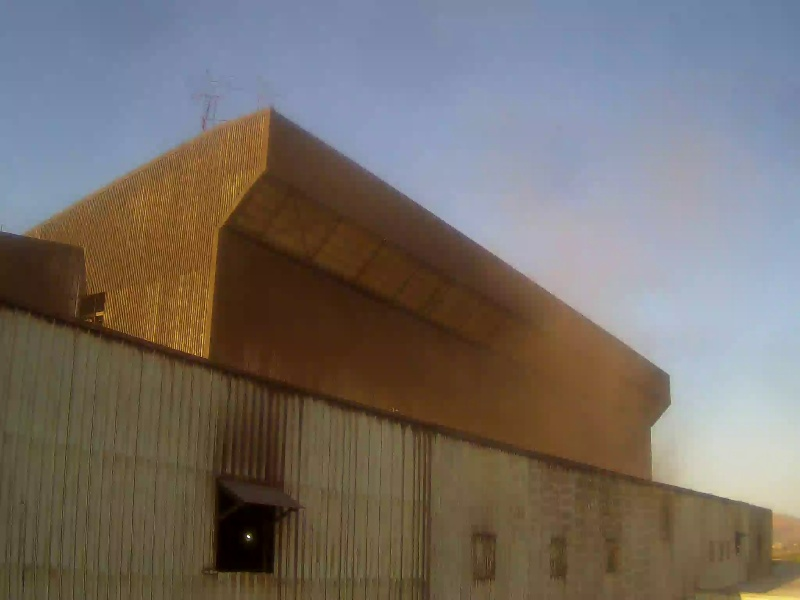bom: (41, 35, 263, 163)
pessimo: (431, 155, 717, 473)
